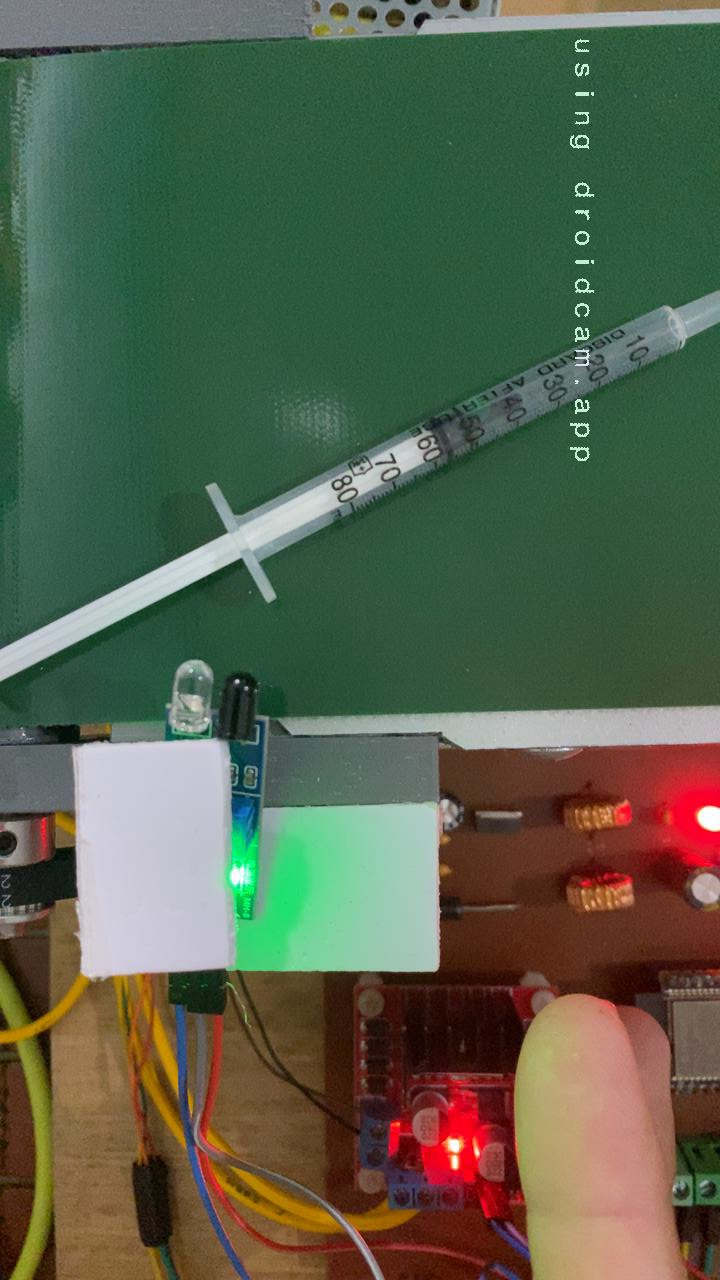syringe: (0, 415, 497, 690)
